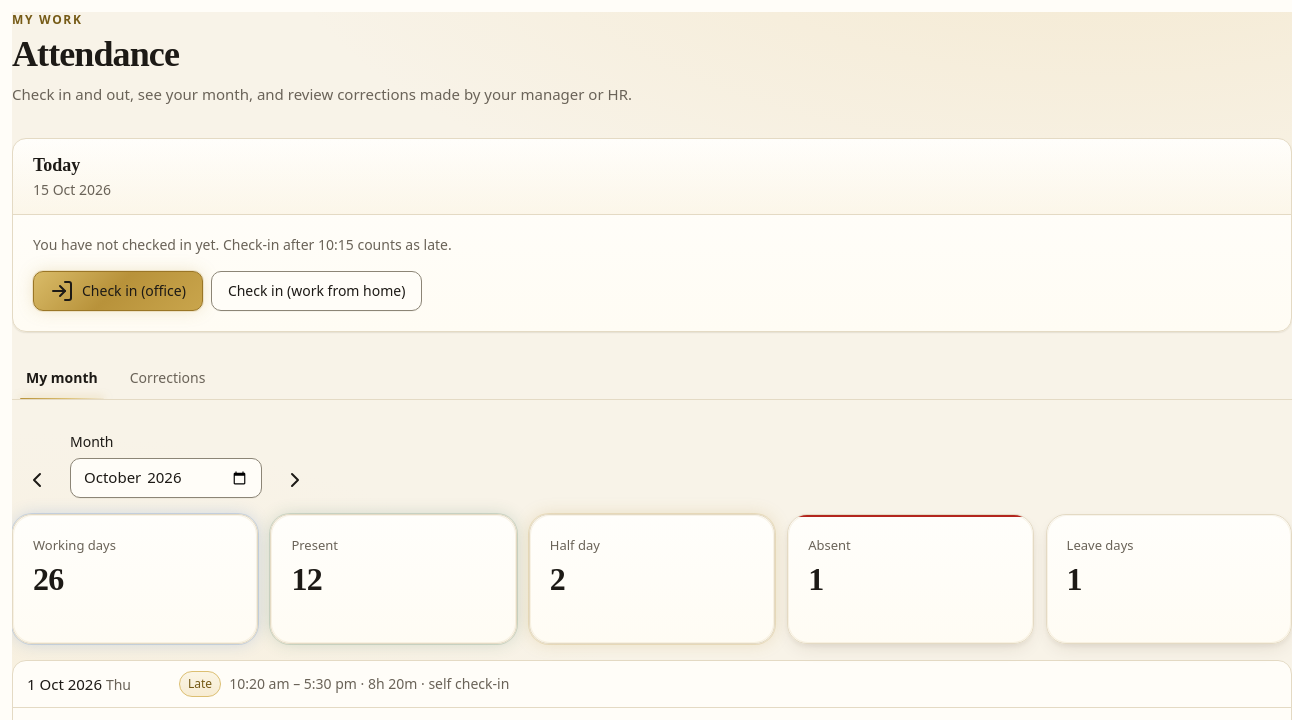
Test: AttendancePage › checks in with the chosen mode and shows success; the server decides the status
The width and height of the screenshot is (1292, 720).
Click the button "Check in (work from home)".
click(317, 291)  # box [211,271,422,311]
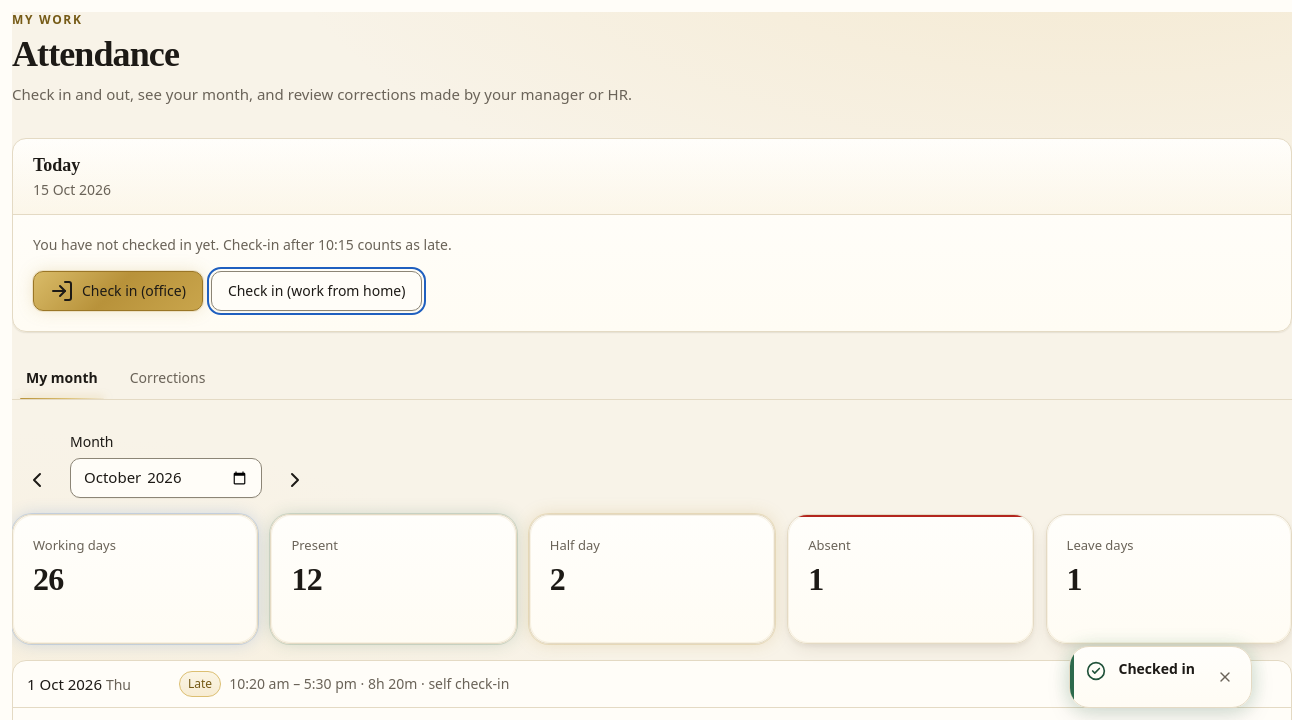
Check: the text "Checked in" is shown, box [1118,659,1195,679]
